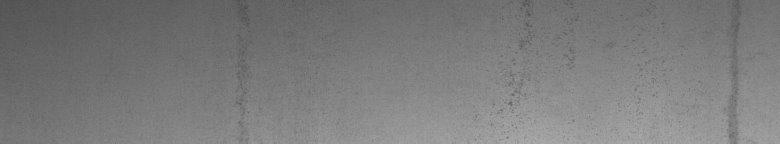ib: (490, 4, 642, 116)
